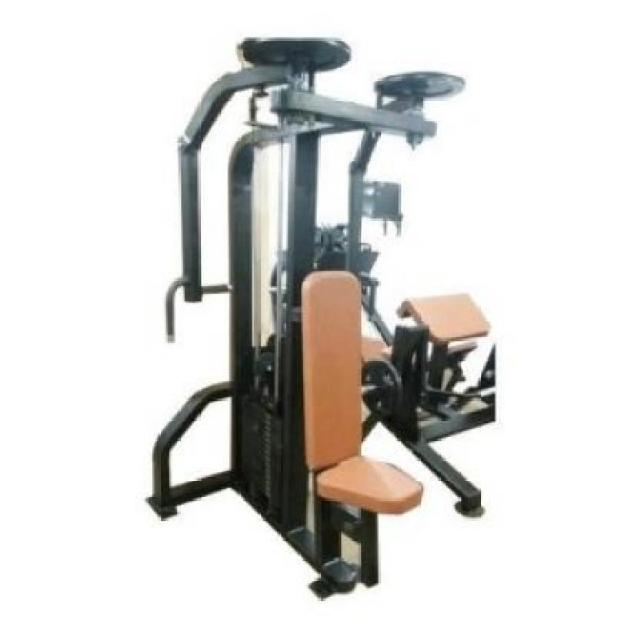Chest Press machine: (124, 20, 536, 611)
